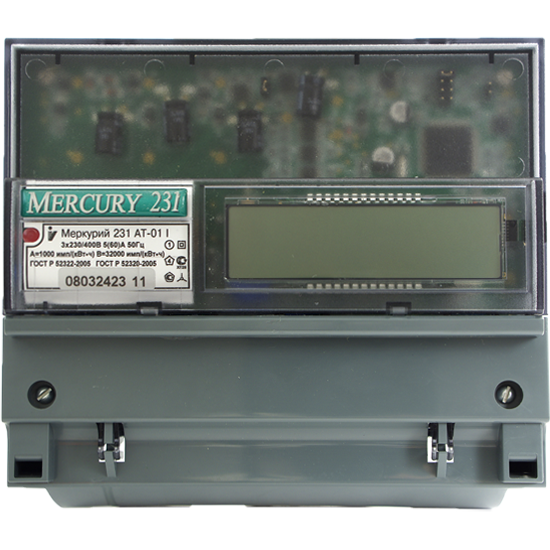counter: (5, 39, 547, 515)
counter_screen: (224, 201, 505, 282)
